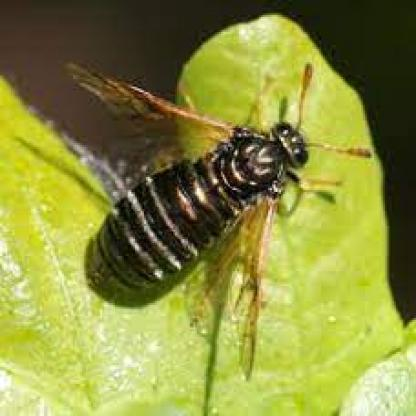sawfly: (69, 50, 383, 381)
